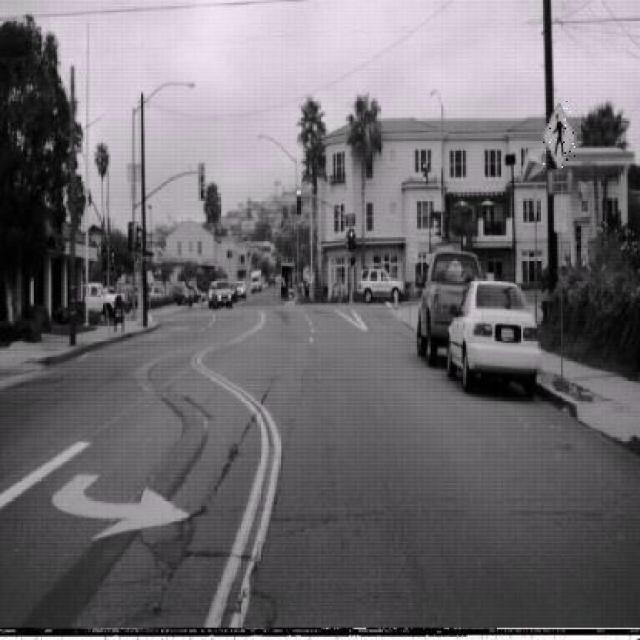pedestrianCrossing: (541, 100, 577, 170)
